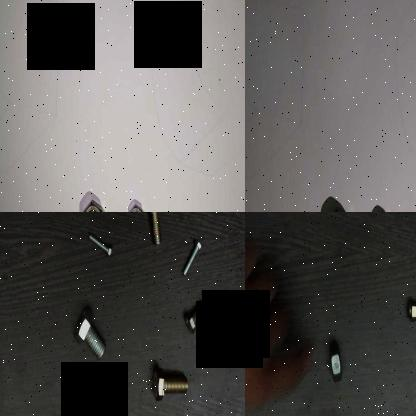Bolts: (74, 301, 108, 363), (148, 361, 188, 404), (178, 236, 202, 278), (87, 226, 113, 262), (182, 296, 206, 334), (144, 212, 166, 244), (83, 400, 112, 416)
NUTS: (326, 338, 346, 386), (78, 194, 104, 212), (404, 293, 416, 326), (126, 198, 147, 212)
